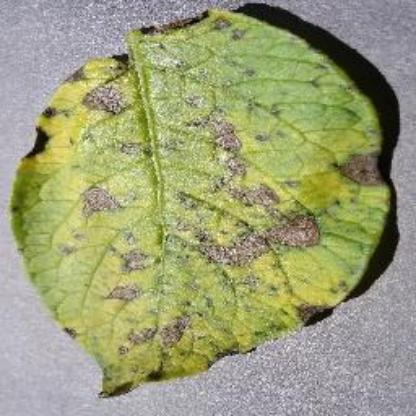Early-Blight: (10, 8, 396, 398)
